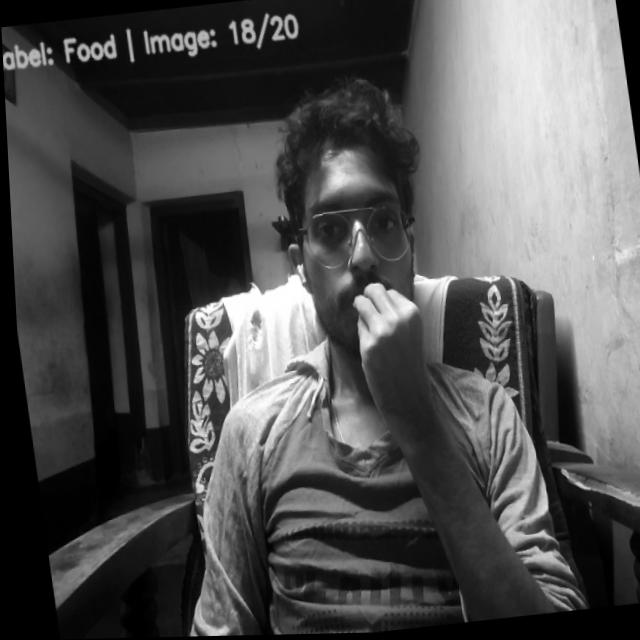Food: (341, 279, 437, 414)
